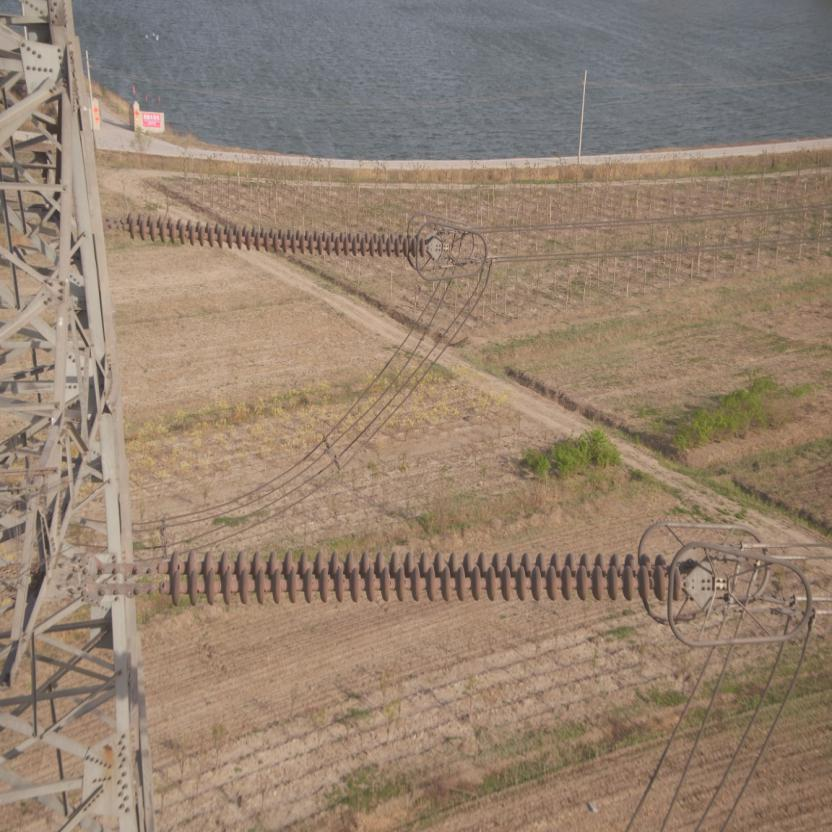insulator: (127, 540, 700, 610), (114, 202, 434, 264)
